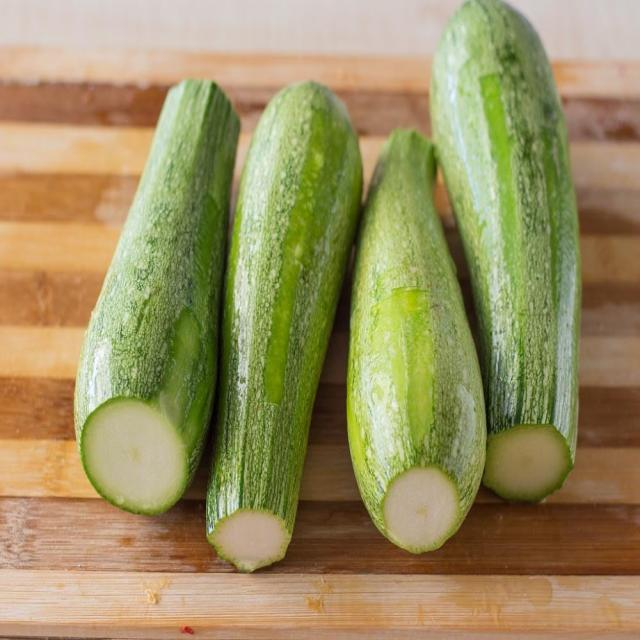Zucchini: (361, 123, 474, 572)
